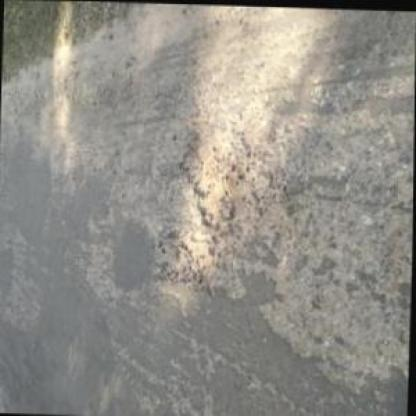pothole: (176, 114, 259, 227), (153, 222, 223, 290)
